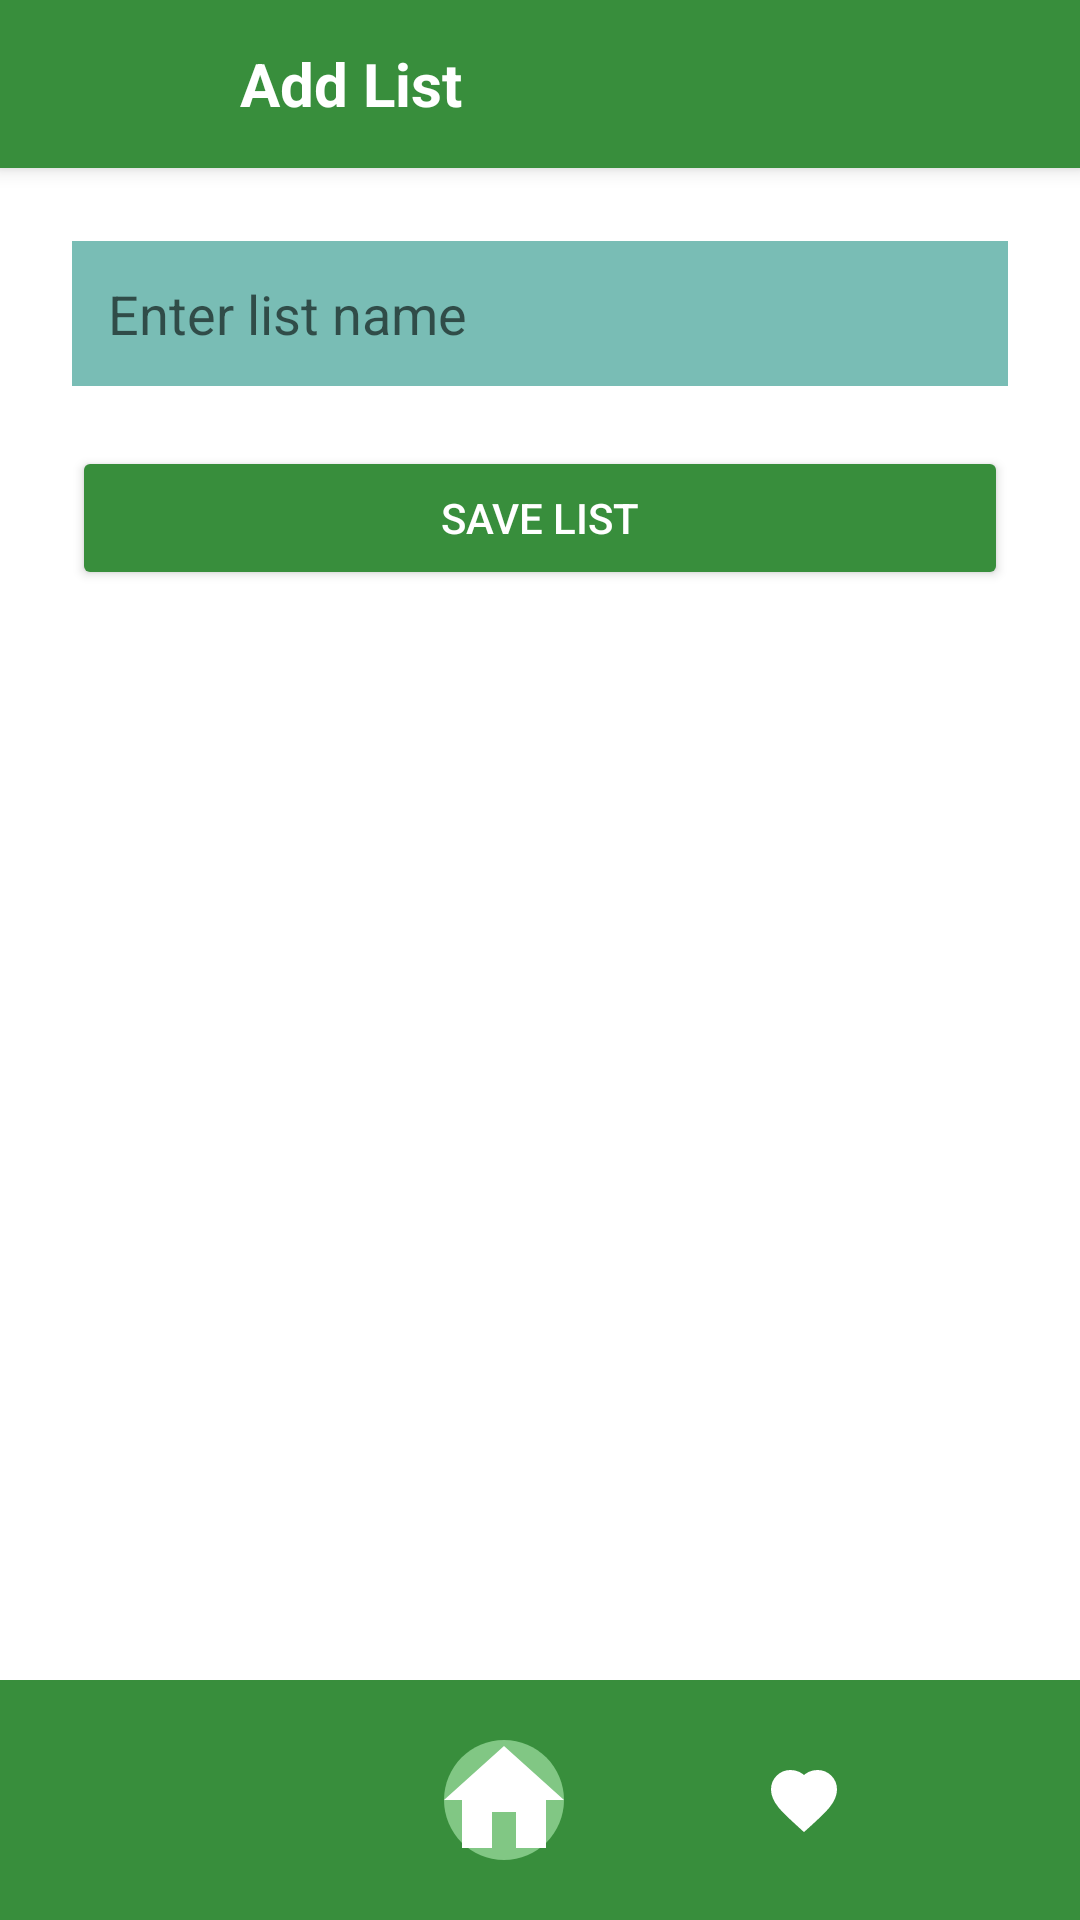

Named icons in this screenshot (1080*1920) and their bounding boxes, (x1=x1, y1=y1, x2=x2, y2=y2):
Favorites: (x1=771, y1=1770, x2=837, y2=1832)
